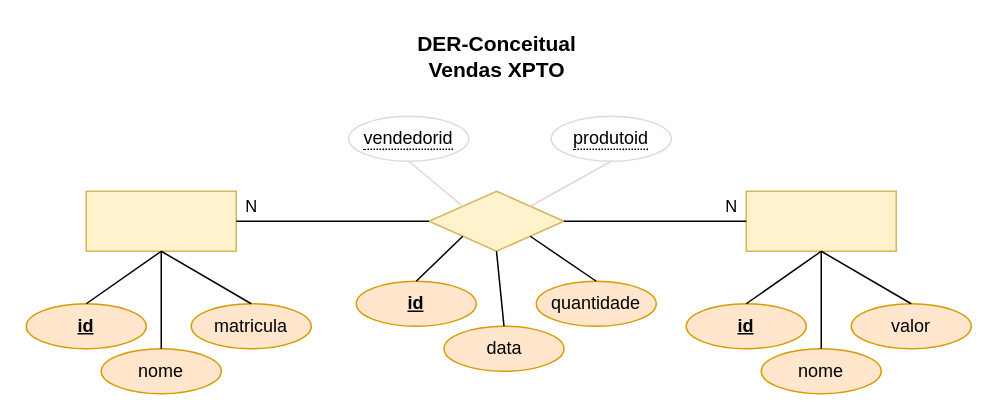
Some shapes in this 998 by 420 pixel diagram are drawn without their labels. The centre of each missing label's shape, as x and y in pixels:
Produtos: the point at 820,220
vendas: the point at 496,220
Vendedores: the point at 160,220
